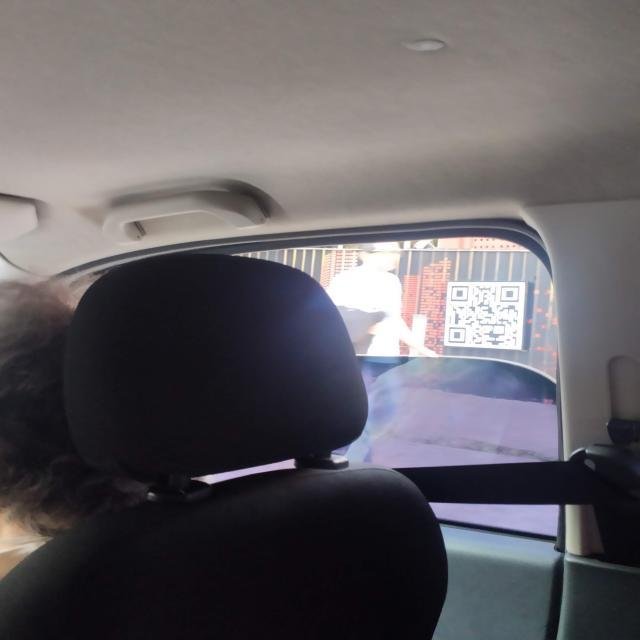qr-code: (448, 286, 520, 346)
